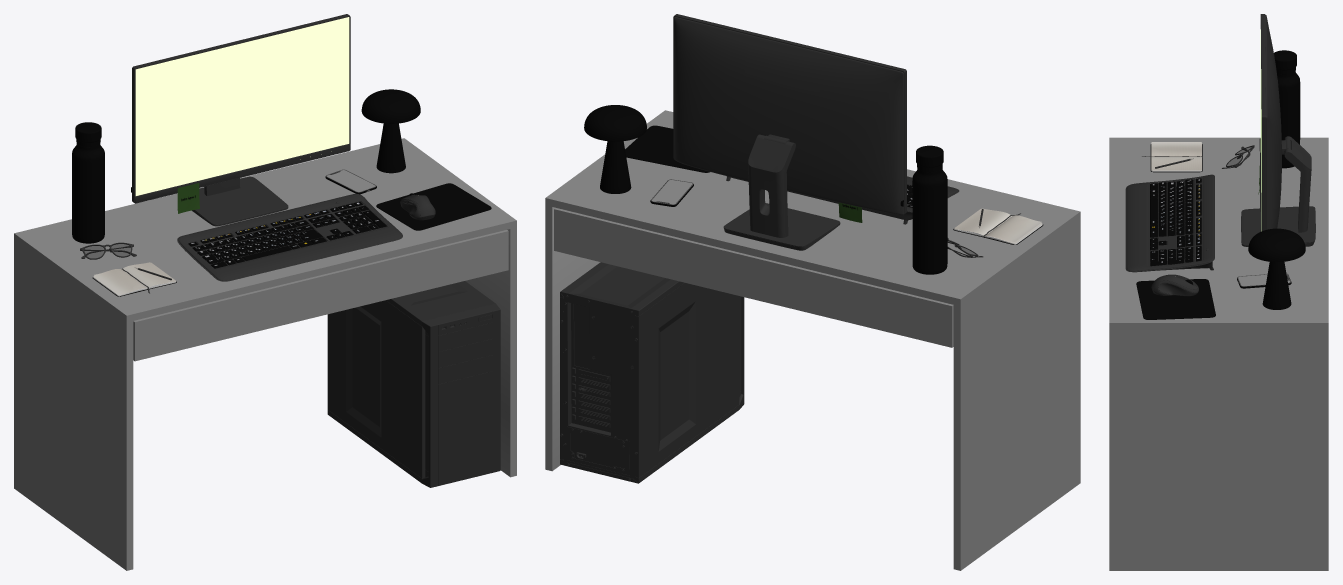
The model's file is cena.glb.
The picture shows the model from 3 angles, left to right: view 1: azimuth 30°, elevation 25°; view 2: azimuth 150°, elevation 25°; view 3: azimuth 270°, elevation 25°; orthographic projection. The views are drawn at different scales.
Visible parts, largest first — view 1: Plane001, PC_01_003, PC_01_043, Object001, PC_01_032, PC_01_059, eva_solo_bottle_grey, 081 Andtradition Como Sc53 Portable Table Lamp 218 00, PC_01_046, PC_01_013, Notepad, PC_01_045 (+8 smaller); view 2: Plane001, PC_01_038, PC_01_003, Object001, PC_01_034, PC_01_041, eva_solo_bottle_grey, 081 Andtradition Como Sc53 Portable Table Lamp 218 00, PC_01_054, Notepad, PC_01_046, PC_01_013 (+4 smaller); view 3: Plane001, PC_01_032, PC_01_059, 081 Andtradition Como Sc53 Portable Table Lamp 218 00, PC_01_038, PC_01_013, Notepad, eva_solo_bottle_grey, PC_01_046, PC_01_041, PC_01_061, PC_01_044 (+8 smaller).
Boxes of the visible parts, x1,y1,x2,y2 form: Plane001: (14,138,516,570); PC_01_003: (327,281,500,487); PC_01_043: (135,17,349,195); Object001: (133,230,508,361); PC_01_032: (188,201,386,268); PC_01_059: (178,194,401,280); eva_solo_bottle_grey: (72,143,104,243); 081 Andtradition Como Sc53 Portable Table Lamp 218 00: (361,89,420,173); PC_01_046: (194,176,288,225); PC_01_013: (376,183,491,230); Notepad: (92,262,176,296); PC_01_045: (135,143,350,202); Plane001: (545,110,1080,570); PC_01_038: (673,17,903,214); PC_01_003: (560,262,744,483); Object001: (554,208,953,347); PC_01_034: (560,292,638,482); PC_01_041: (748,134,795,237); eva_solo_bottle_grey: (912,167,947,274); 081 Andtradition Como Sc53 Portable Table Lamp 218 00: (584,105,646,193); PC_01_054: (744,39,822,93); Notepad: (953,208,1043,244); PC_01_046: (723,203,840,246); PC_01_013: (625,125,709,172); Plane001: (1109,137,1328,570); PC_01_032: (1150,178,1201,266); PC_01_059: (1127,174,1213,271); 081 Andtradition Como Sc53 Portable Table Lamp 218 00: (1248,228,1305,309); PC_01_038: (1265,15,1281,229); PC_01_013: (1136,279,1215,319); Notepad: (1142,142,1202,172); eva_solo_bottle_grey: (1277,71,1300,168); PC_01_046: (1241,206,1315,245); PC_01_041: (1284,136,1311,232); PC_01_061: (1260,14,1265,230); PC_01_044: (1148,177,1202,266).
Size of the model in its own units: 1.2 by 1.25 by 0.6.
Materials: 16 (4 with a texture image).
